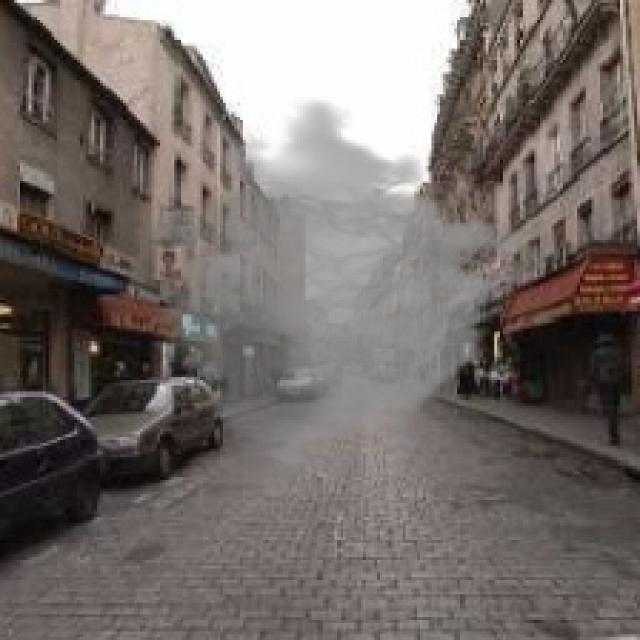smoke: (120, 97, 540, 472)
